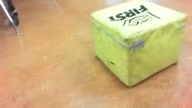cube: (90, 1, 189, 88)
